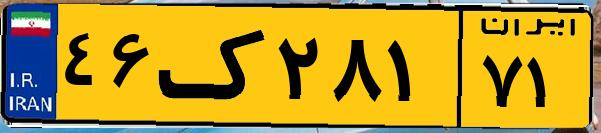1: (385, 28, 445, 110), (525, 38, 570, 115)
2: (270, 28, 330, 110)
4: (57, 26, 110, 100)
6: (110, 28, 158, 98)
7: (475, 38, 525, 113)
8: (330, 28, 385, 110)
ک: (158, 12, 270, 120)
